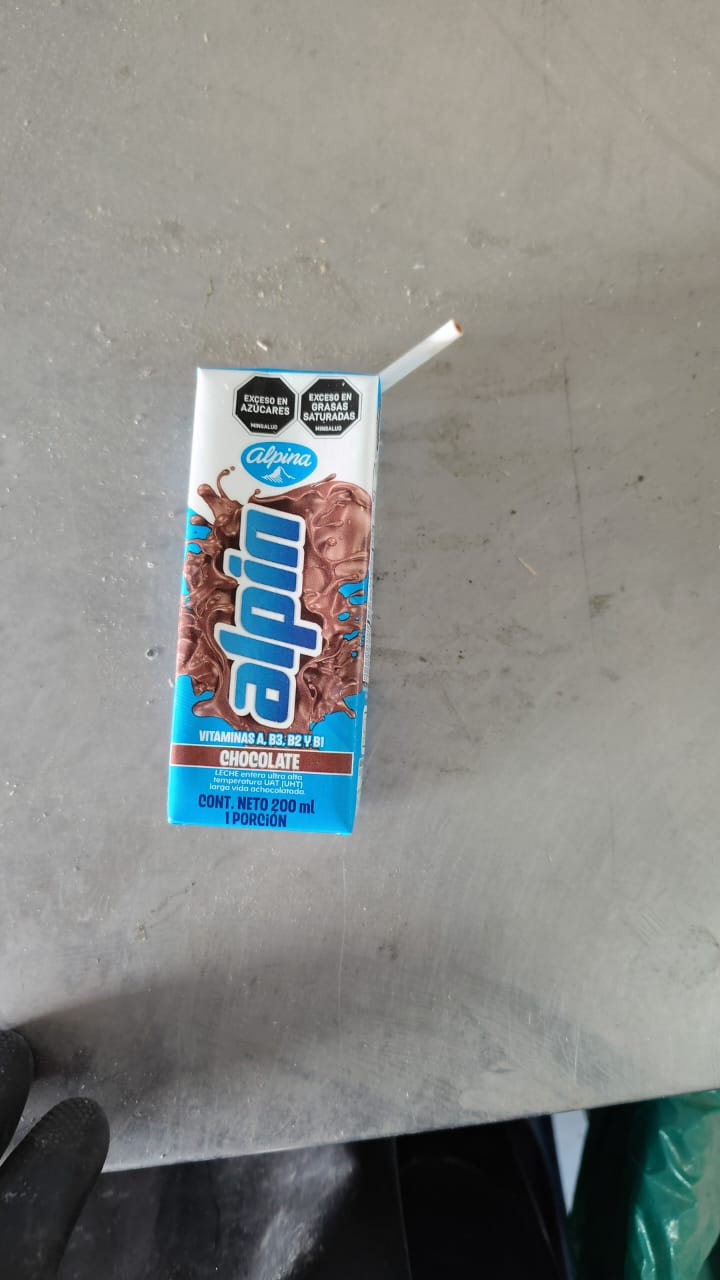Carton: (166, 368, 382, 830)
